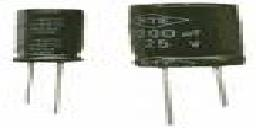Electrolytic-Capacitor: (126, 3, 252, 128), (13, 4, 90, 117)
